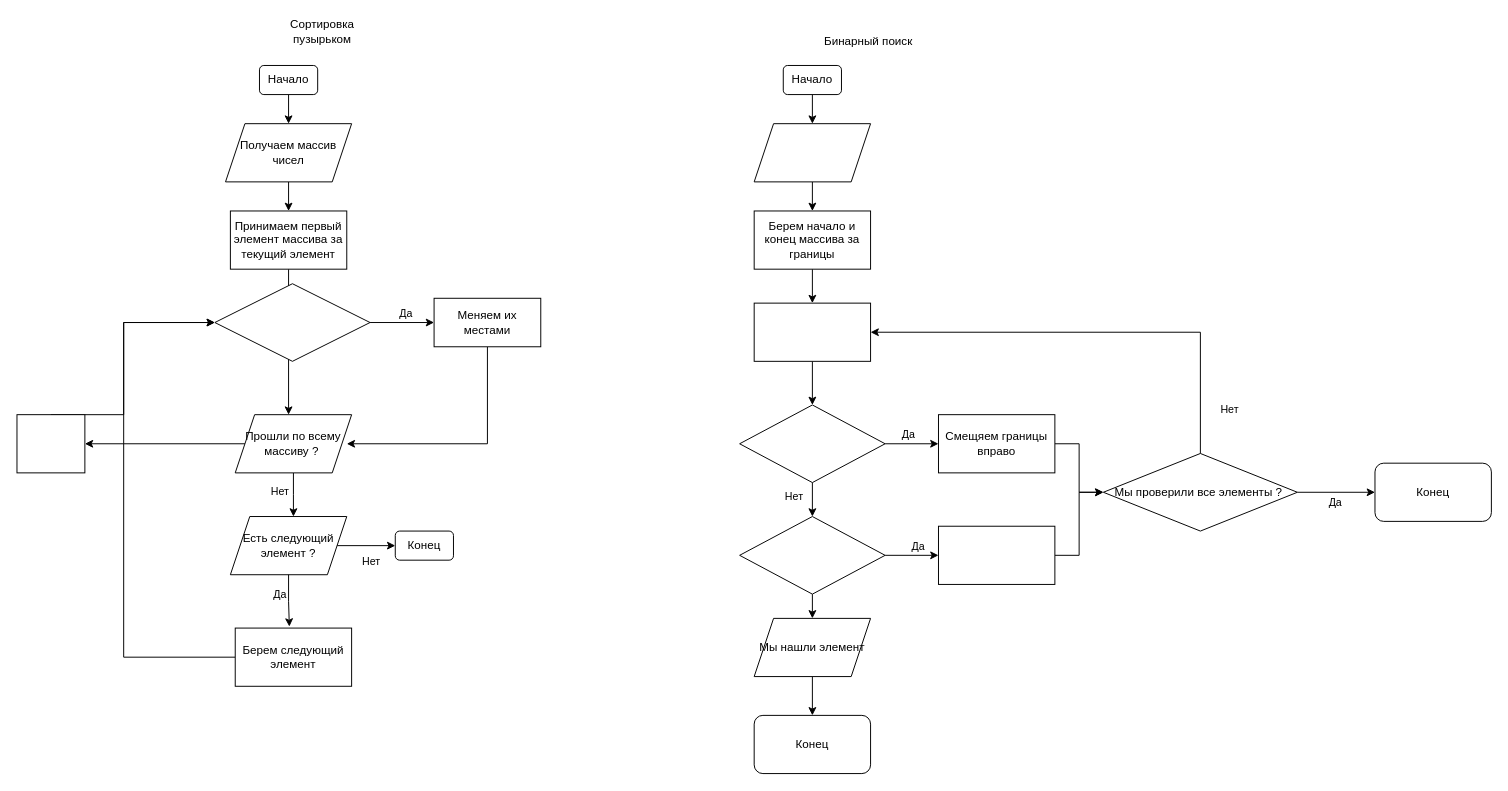
Image size: 1508x791. Some labels were removed from this diagram. Each missing label, with the centre of its shape:
"Берем центральный элемент" belongs at point 812,331.
"Меняем текущий элемент" belongs at point 50,443.
"Получаем отсортированный по убыванию массив" belongs at point 812,152.
"Смещяем границы влево" belongs at point 996,554.
"Соседний элемент больше ?" belongs at point 292,322.
"Центральный элемент больше искомого ?" belongs at point 812,443.
"Центральный элемент меньше искомого ?" belongs at point 812,555.
